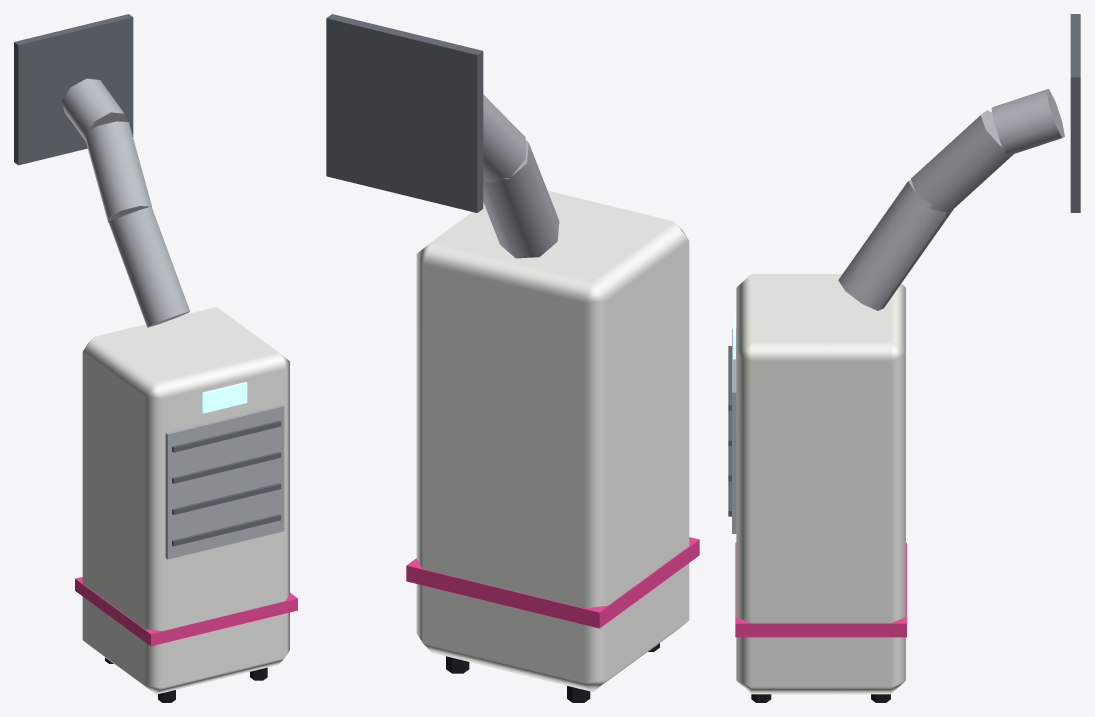
The model's file is station_transport_ausstattung_3_2.glb.
3 views of the same model, side by side, from view 1: azimuth 30°, elevation 25°; view 2: azimuth 150°, elevation 25°; view 3: azimuth 270°, elevation 25° (orthographic). The views are drawn at different scales.
Parts seen in each view (by area): view 1: station_transport_ausstattung_3_2; view 2: station_transport_ausstattung_3_2; view 3: station_transport_ausstattung_3_2.
Part boxes in pixels (x1,y1,x2,y2): station_transport_ausstattung_3_2: (14, 14, 297, 702); station_transport_ausstattung_3_2: (326, 14, 699, 702); station_transport_ausstattung_3_2: (728, 14, 1080, 702).
Size of the model in its own units: 0.384 by 1.39 by 0.706.
